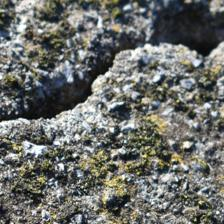Crack: (71, 56, 157, 117), (18, 165, 108, 197)
